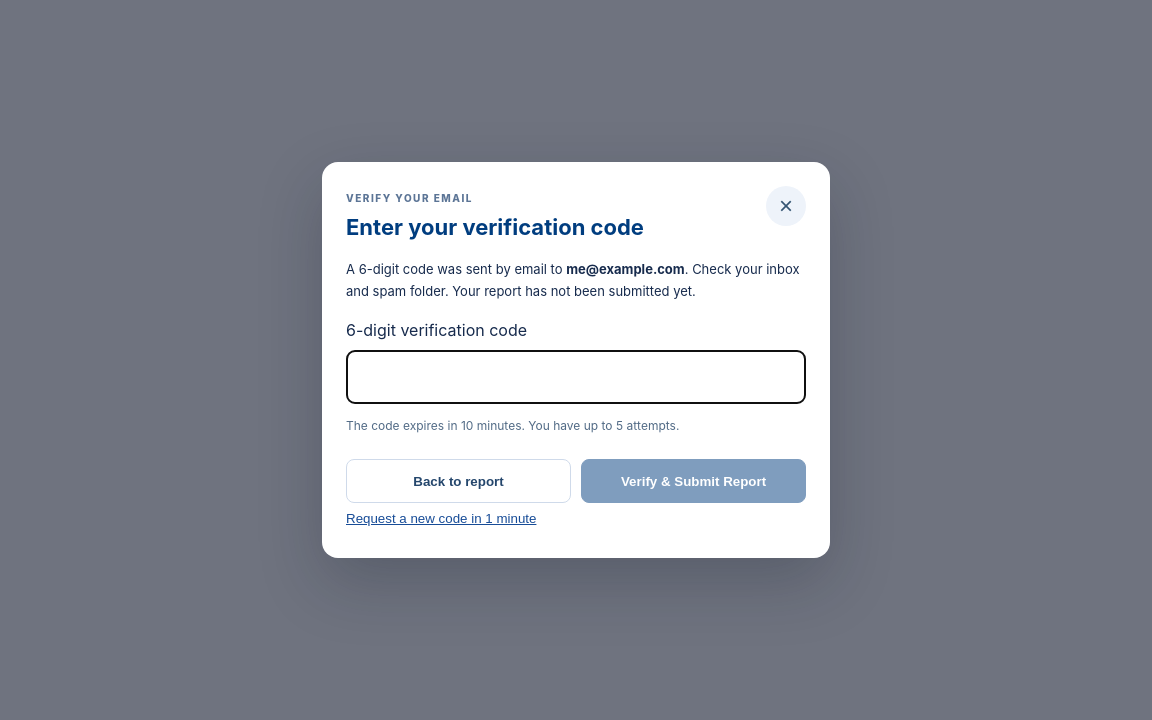
Test: incorrect codes never submit a report
Type "123456" into the field labelled "6-digit verification code" at (576, 377), box [346, 350, 806, 404]
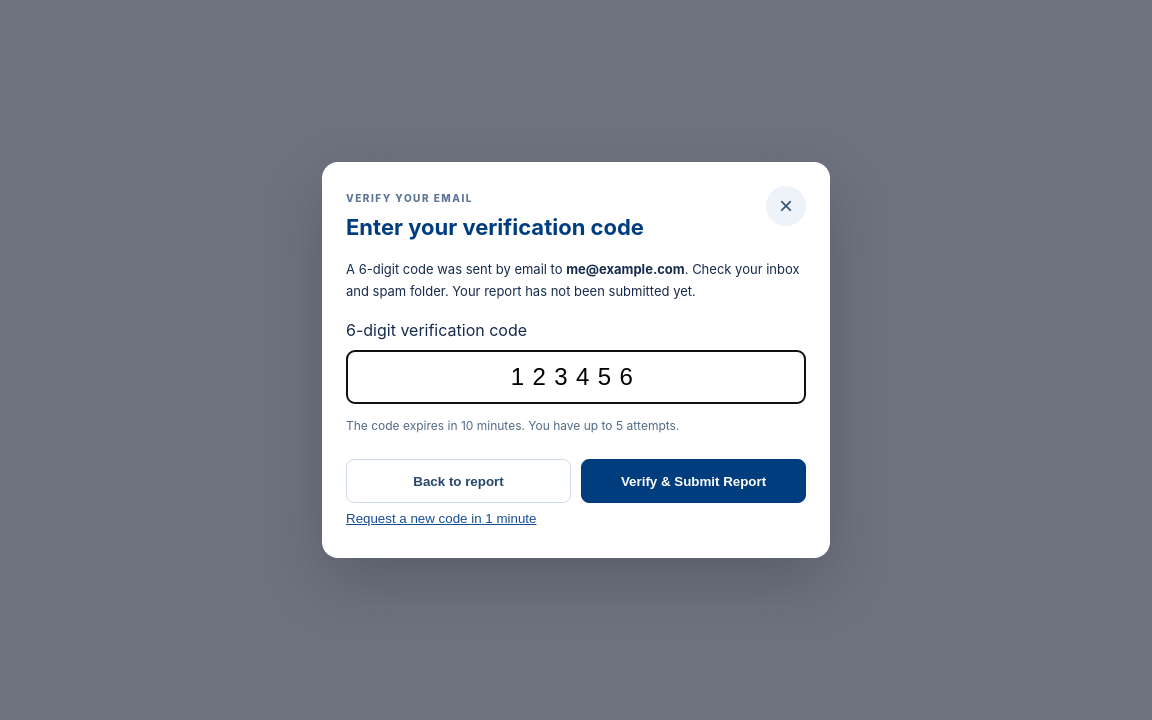
Click the button "Verify & Submit Report" at (694, 481), box [581, 459, 806, 503]
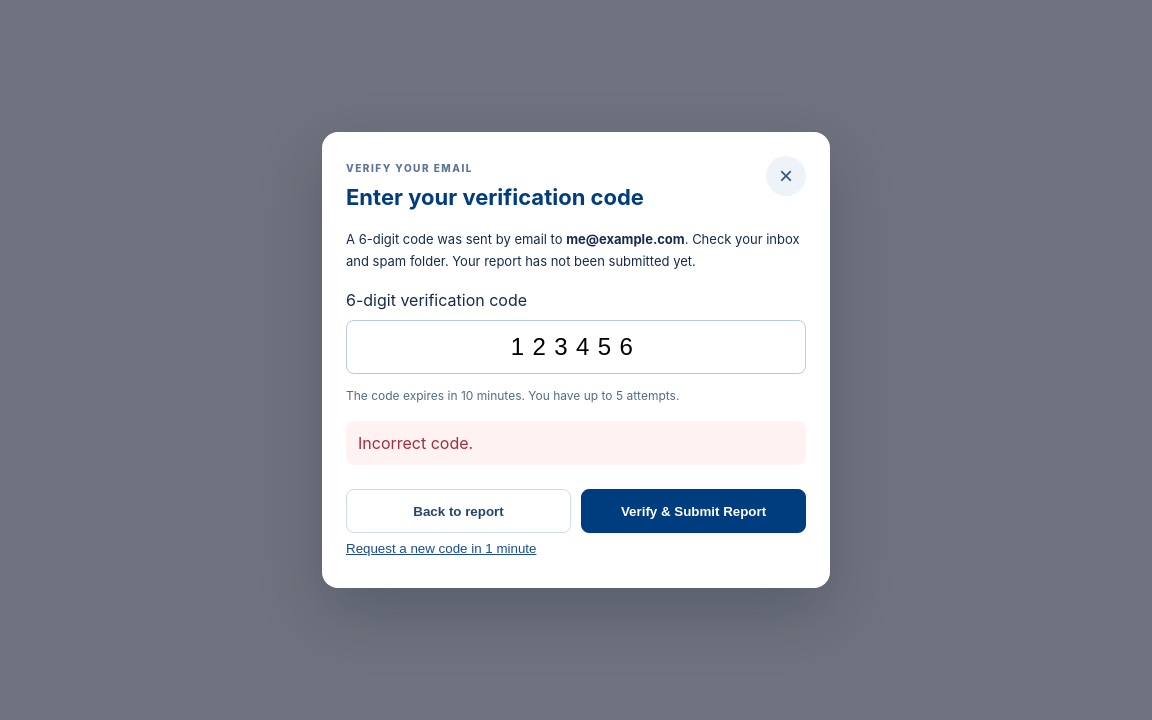
Expected: the message shows "Incorrect code", [358, 433, 473, 453]
